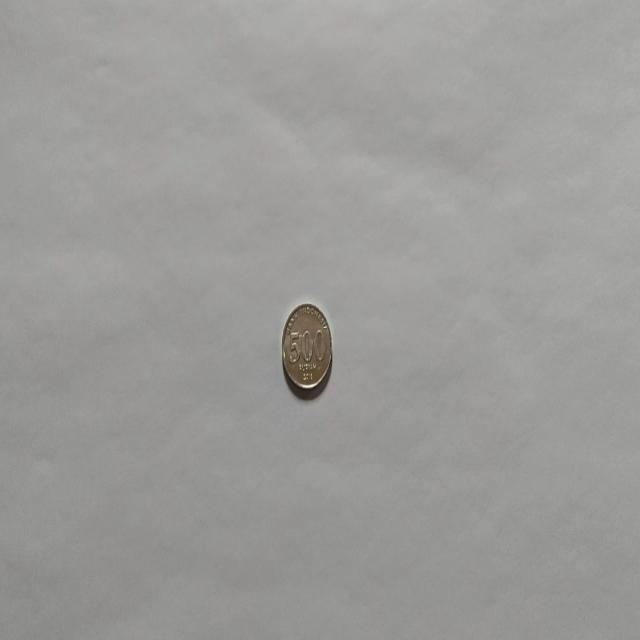lima ratus rupiah: (280, 300, 334, 396)
